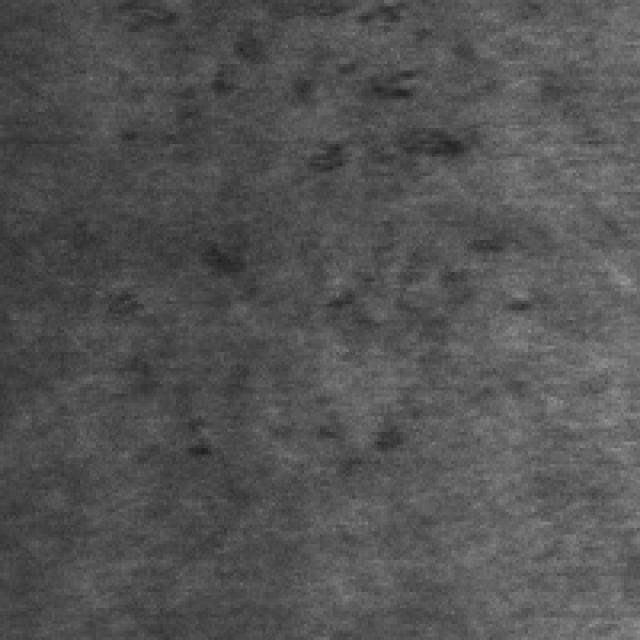rolled-in_scale: (266, 224, 502, 483), (224, 0, 477, 173)
